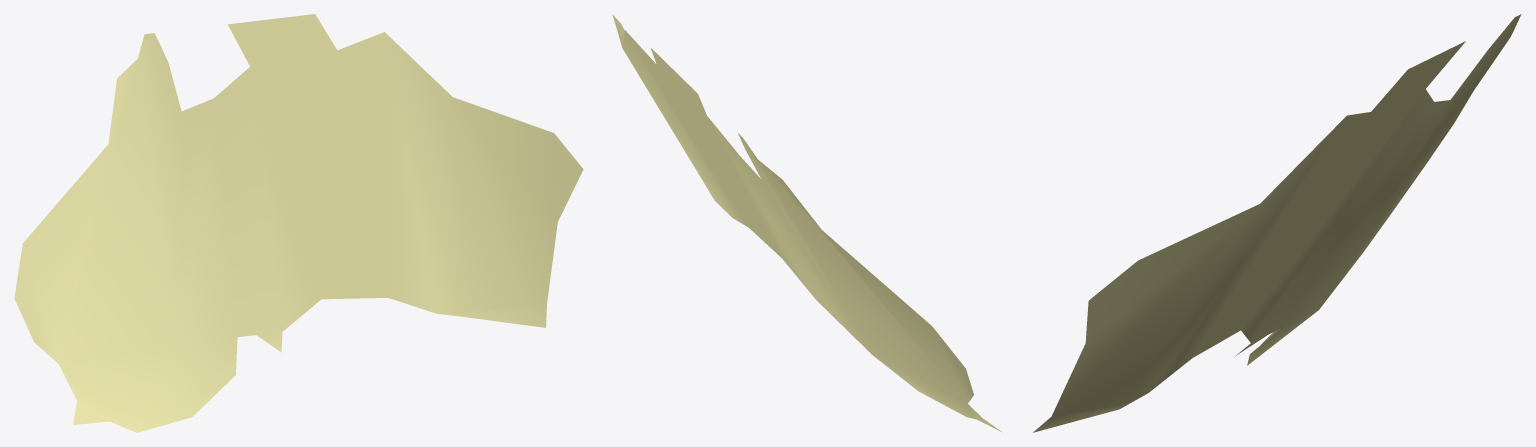
File: original-12.obj
3 views of the same model, side by side, from view 1: azimuth 30°, elevation 25°; view 2: azimuth 150°, elevation 25°; view 3: azimuth 270°, elevation 25° (orthographic). The views are drawn at different scales.
Parts seen in each view (by area): view 1: mesh3/mesh3-geometry#mesh3-geometry; view 2: mesh3/mesh3-geometry#mesh3-geometry; view 3: mesh3/mesh3-geometry#mesh3-geometry.
Boxes of the visible parts, <box> form: mesh3/mesh3-geometry#mesh3-geometry: <box>14,14,583,432</box>; mesh3/mesh3-geometry#mesh3-geometry: <box>612,14,1002,432</box>; mesh3/mesh3-geometry#mesh3-geometry: <box>1033,14,1521,432</box>.
Size of the model in its own units: 0.2552 by 0.1773 by 0.1849.
